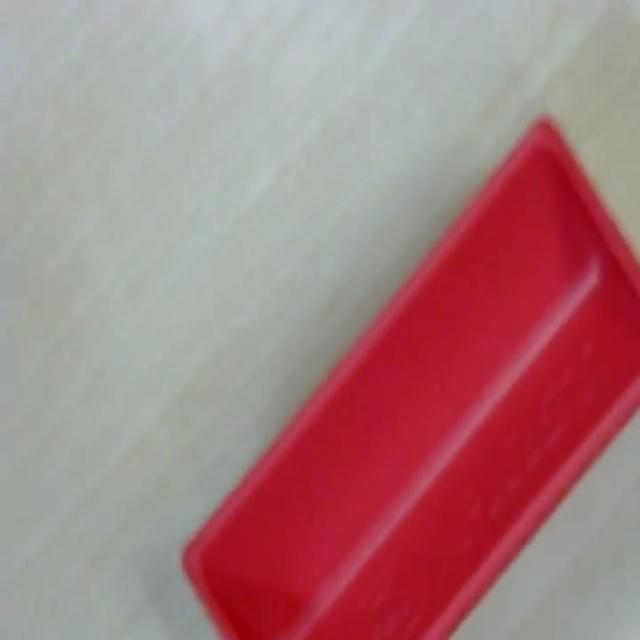red_block: (180, 112, 638, 637)
